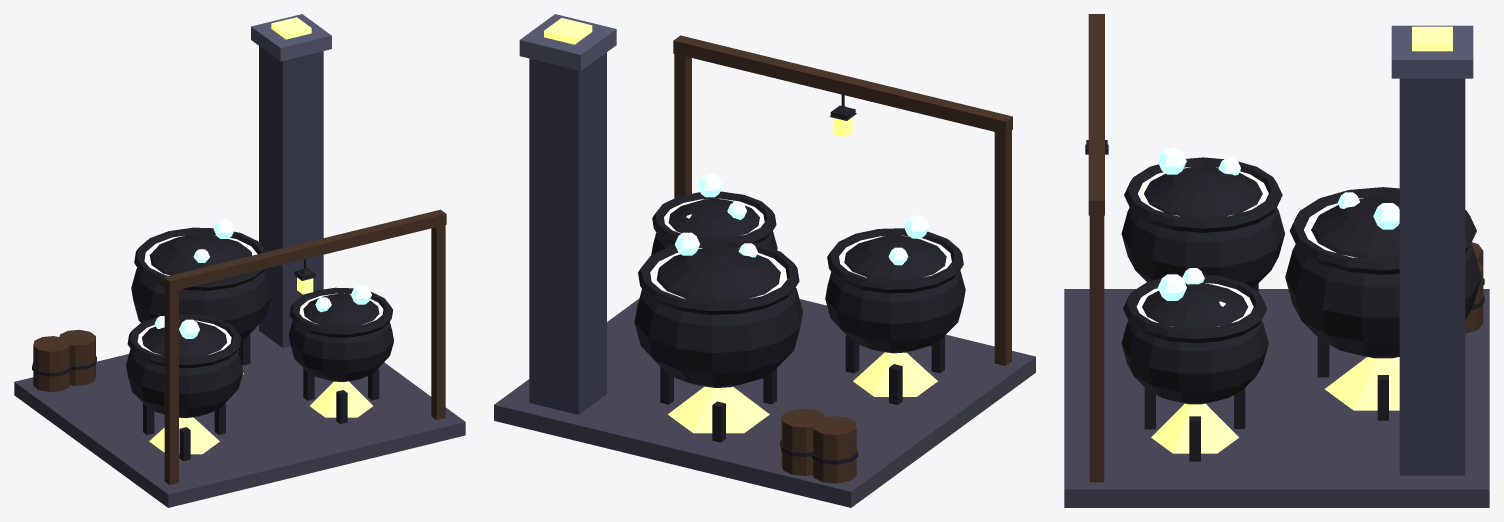
File: dynamodb-cauldron-brewery.glb
3 views of the same model, side by side, from view 1: azimuth 30°, elevation 25°; view 2: azimuth 150°, elevation 25°; view 3: azimuth 270°, elevation 25° (orthographic). The views are drawn at different scales.
Parts seen in each view (by area): view 1: cw_paint, cw_glow, cw_neon; view 2: cw_paint, cw_glow, cw_neon; view 3: cw_paint, cw_glow, cw_neon.
Part boxes in pixels (<box>): cw_paint: <box>14,14,465,507</box>; cw_glow: <box>149,17,372,454</box>; cw_neon: <box>137,219,383,354</box>; cw_paint: <box>494,14,1035,507</box>; cw_glow: <box>544,18,937,433</box>; cw_neon: <box>650,174,951,298</box>; cw_paint: <box>1064,14,1489,507</box>; cw_glow: <box>1105,26,1452,453</box>; cw_neon: <box>1136,148,1399,326</box>.
Size of the model in its own units: 5.8 by 6 by 5.2.
